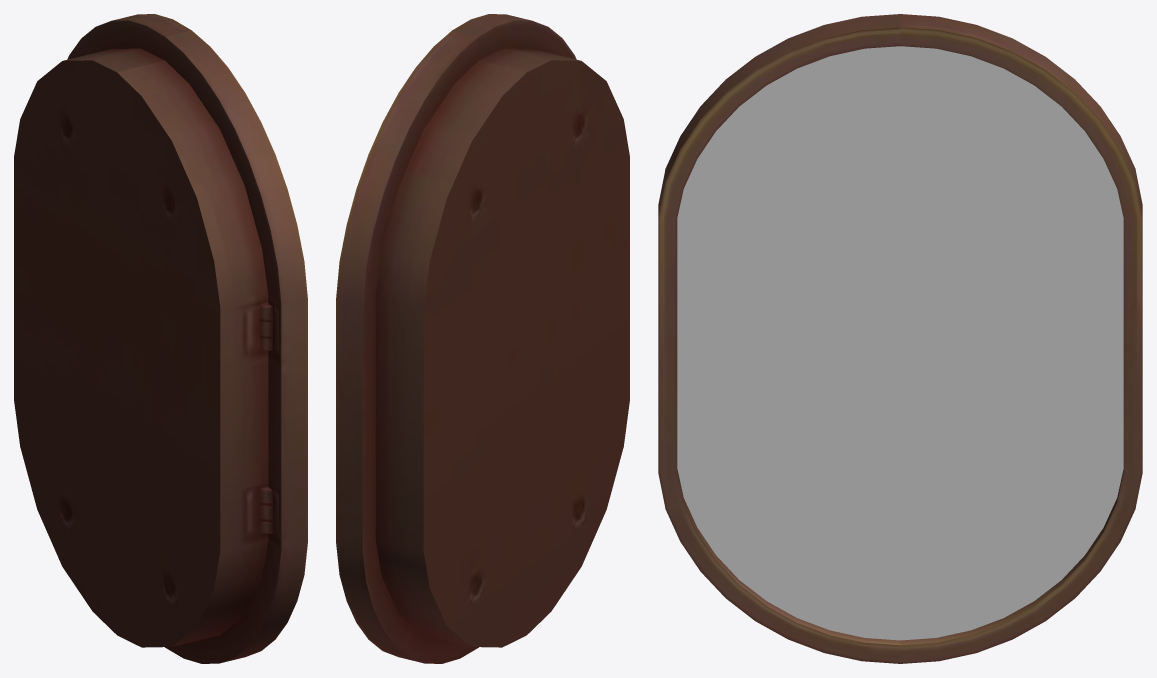
Rendered from tiny_miracle_mirror.glb.
3 views of the same model, side by side, from view 1: azimuth 30°, elevation 25°; view 2: azimuth 150°, elevation 25°; view 3: azimuth 270°, elevation 25° (orthographic). The views are drawn at different scales.
Parts seen in each view (by area): view 1: TinytLiving_MiracleMirror_26; view 2: TinytLiving_MiracleMirror_26; view 3: s4studio_mesh_2.003_25, TinytLiving_MiracleMirror_26.
Boxes of the visible parts, x1,y1,x2,y2 form: TinytLiving_MiracleMirror_26: (14, 14, 307, 663); TinytLiving_MiracleMirror_26: (336, 14, 629, 663); s4studio_mesh_2.003_25: (677, 46, 1123, 640); TinytLiving_MiracleMirror_26: (658, 14, 1142, 663).
Bounding box in the file's own units: 0.1401 × 1.1 × 0.7568.
2 materials, 1 textured.
